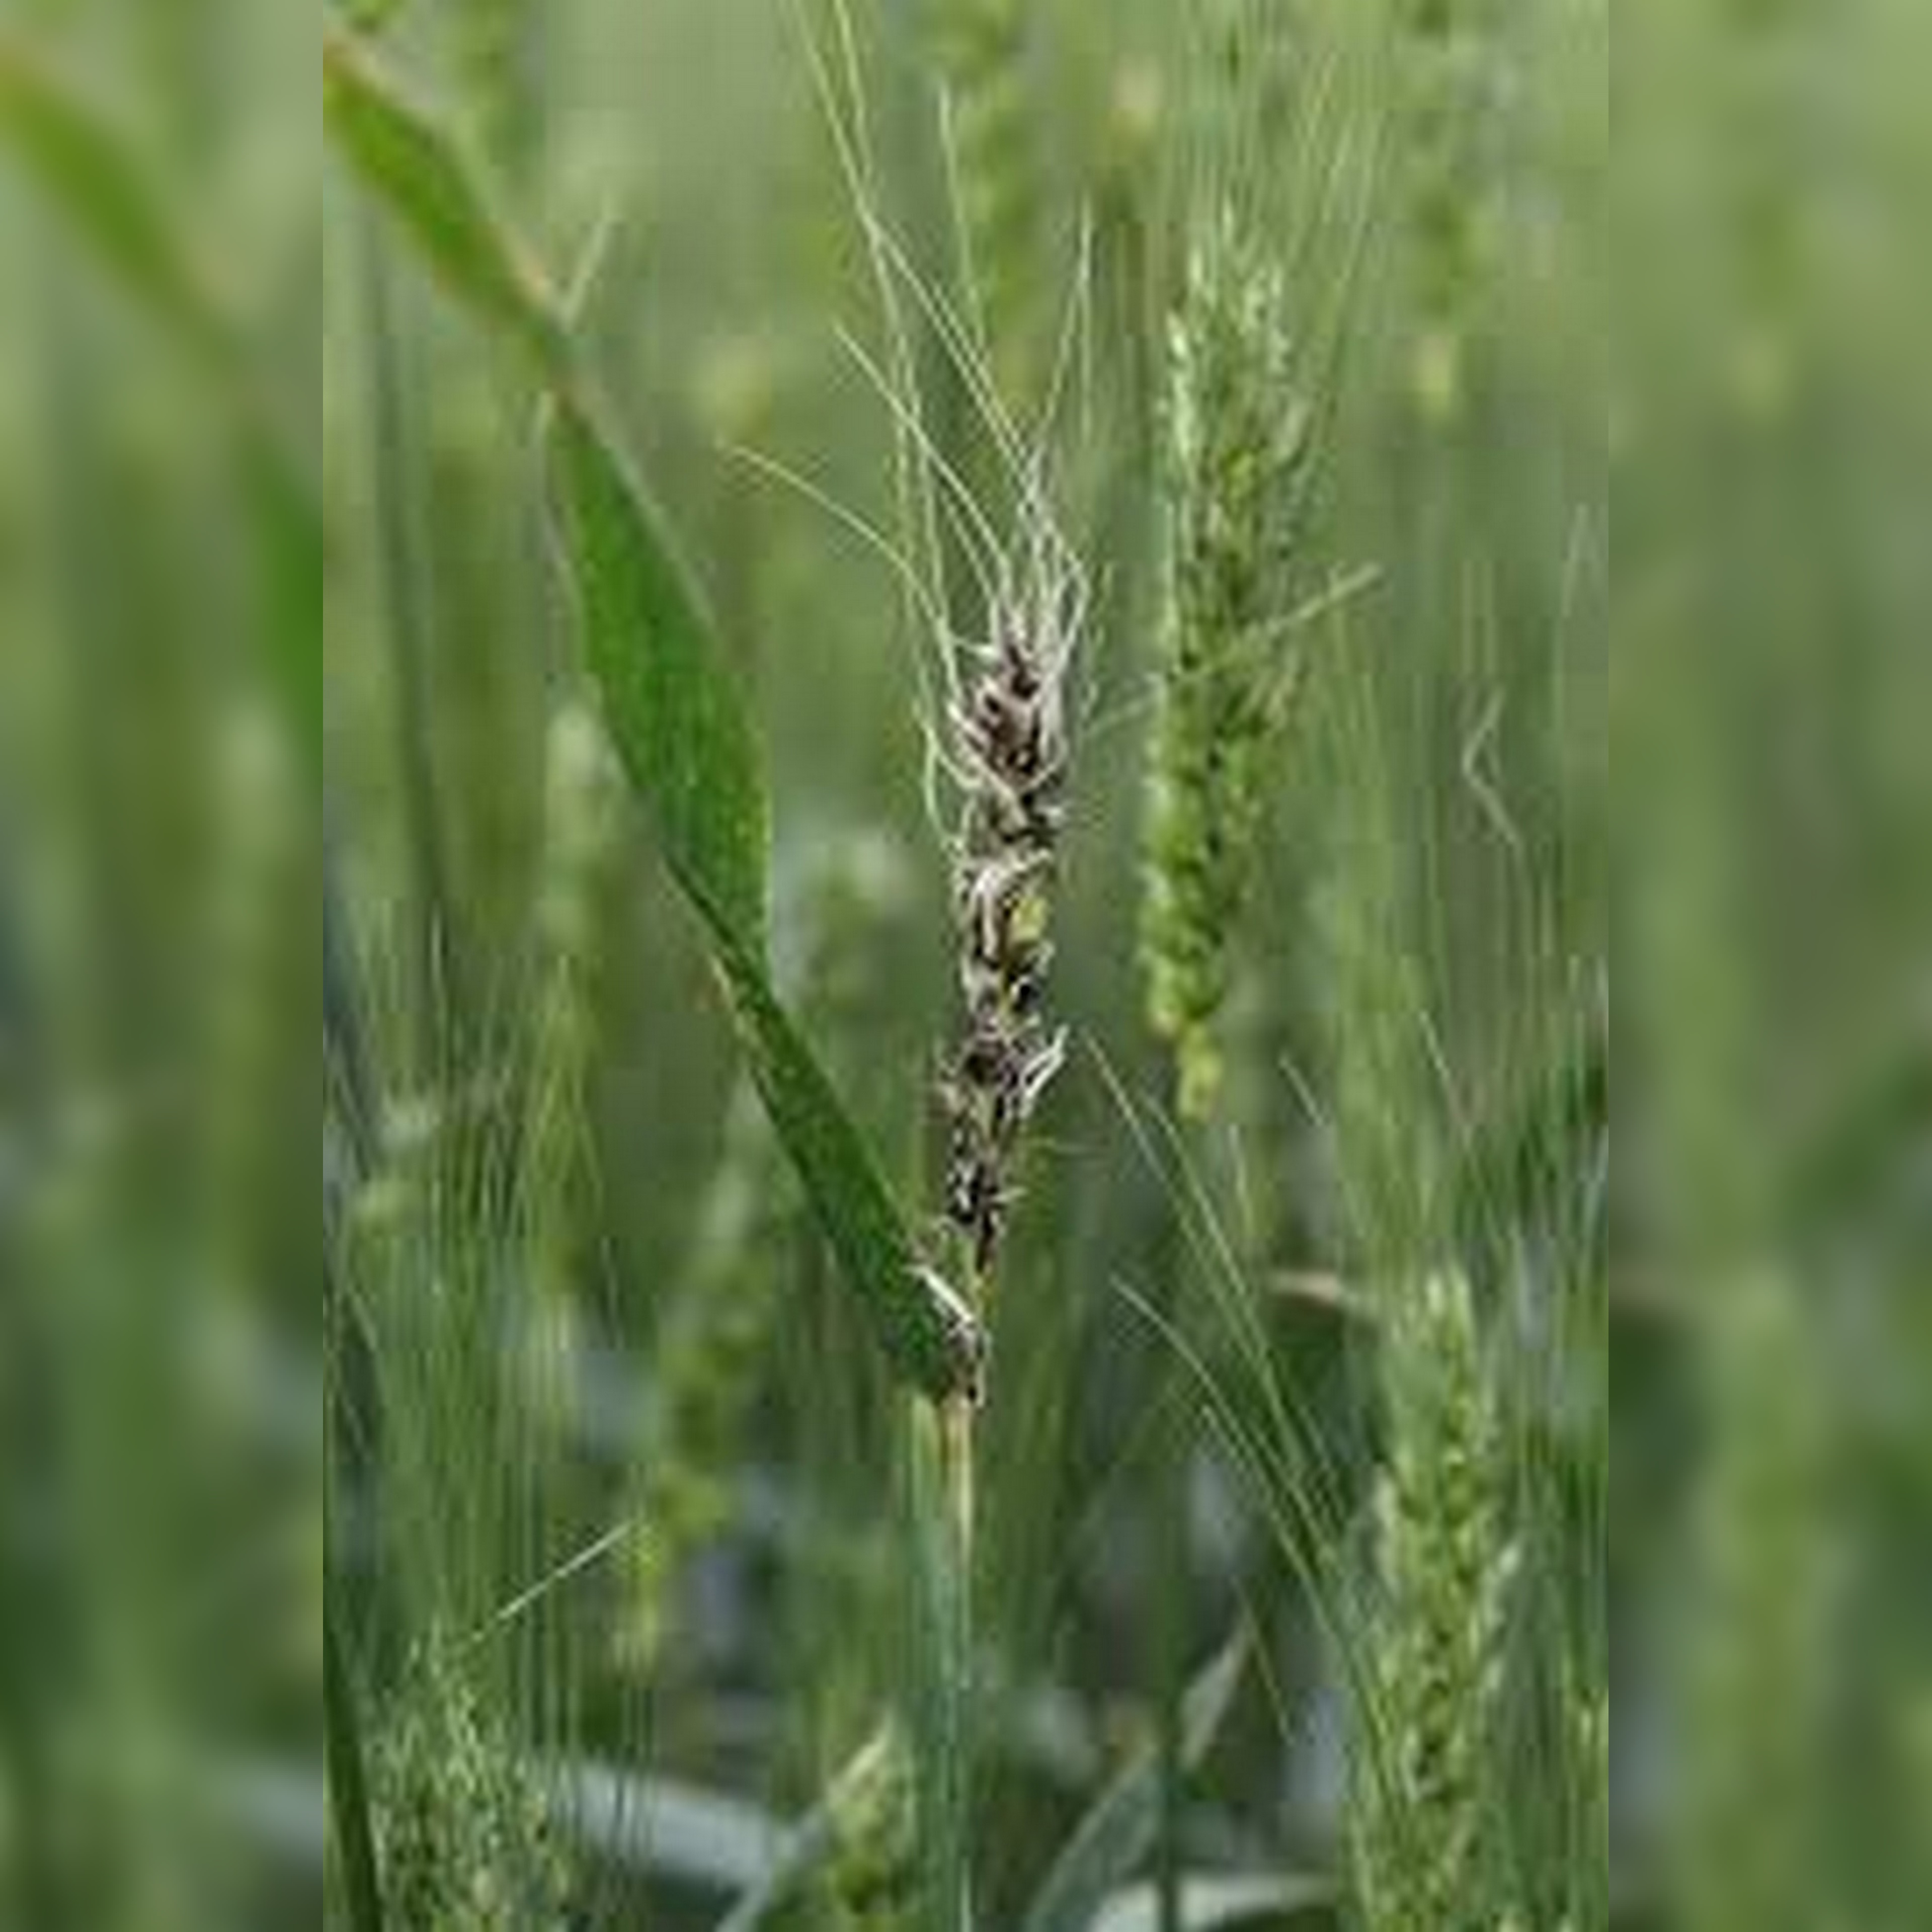Wheat Loose Smut: (837, 557, 1134, 1231)
